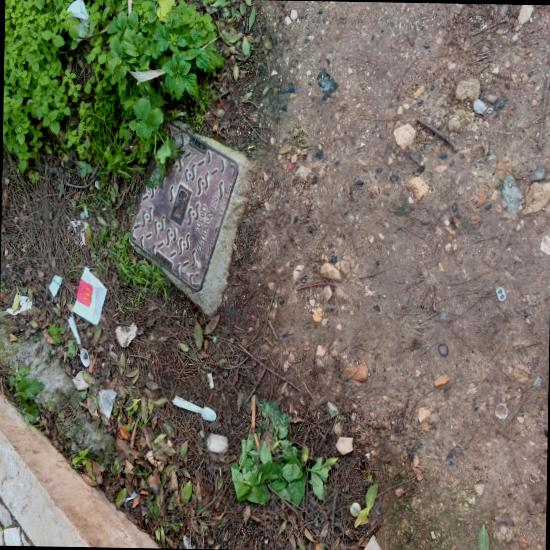Cigarette: (207, 372, 213, 388)
Other plastic: (48, 274, 62, 296), (145, 448, 161, 467)
Paper bag: (72, 266, 107, 324), (66, 0, 92, 36)
Plastic film: (96, 389, 116, 418)
Plastic utensils: (67, 316, 90, 366), (173, 395, 216, 420)
Pop tab: (495, 286, 506, 301)
